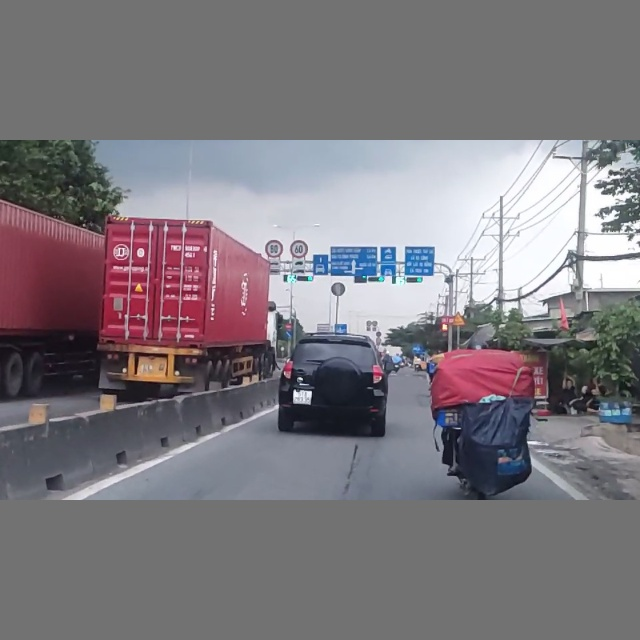P.102: (285, 323, 292, 329)
P.127*60: (290, 240, 309, 259)
P.127*80: (265, 239, 283, 258)
R.302a: (285, 331, 292, 337)
W.245a: (451, 311, 466, 326)
